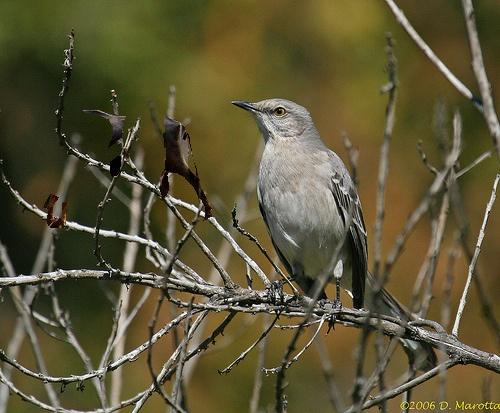tampered: (44, 111, 212, 228)
